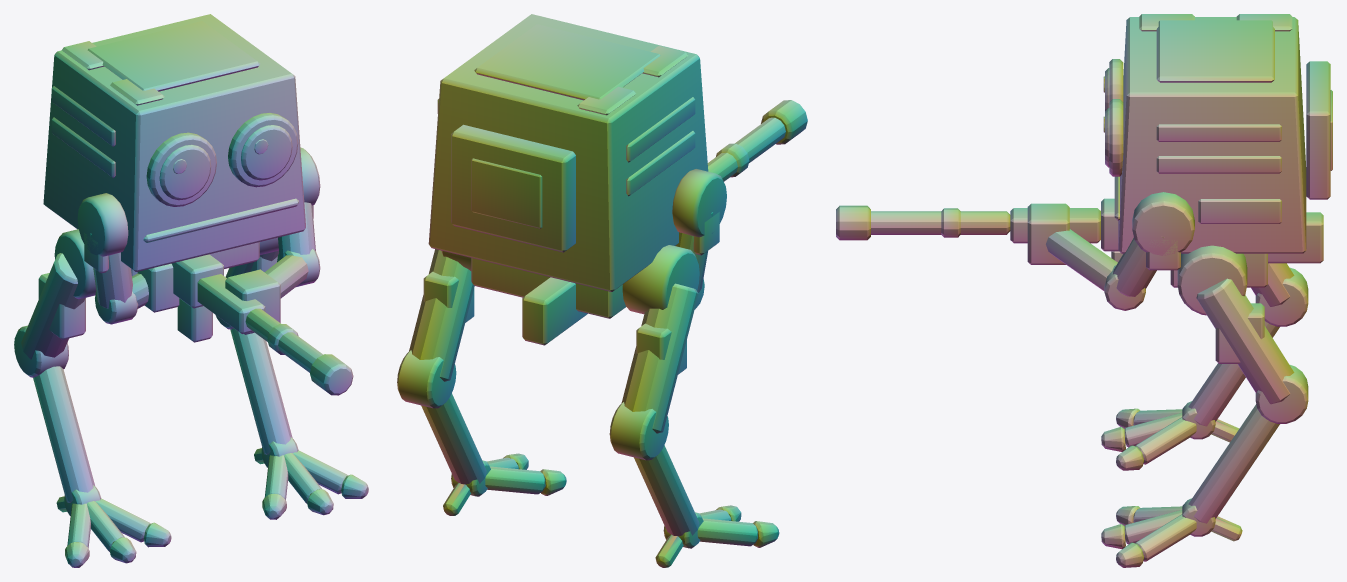
File: mech_rig.glb
The picture shows the model from 3 angles, left to right: view 1: azimuth 30°, elevation 25°; view 2: azimuth 150°, elevation 25°; view 3: azimuth 270°, elevation 25°; orthographic projection. The views are drawn at different scales.
Parts seen in each view (by area): view 1: body, barrel, thigh_R, shin_R, foot_L, foot_R, shin_L, arm_R, arm_L, thigh_L; view 2: body, thigh_R, thigh_L, barrel, shin_L, shin_R, foot_R, foot_L, arm_R; view 3: body, barrel, thigh_L, foot_L, foot_R, shin_L, shin_R, thigh_R, arm_L.
Boxes of the visible parts, x1,y1,x2,y2 form: body: [43, 14, 320, 299]; barrel: [95, 249, 353, 395]; thigh_R: [14, 253, 85, 377]; shin_R: [33, 366, 101, 515]; foot_L: [254, 448, 368, 519]; foot_R: [56, 496, 171, 567]; shin_L: [230, 328, 298, 467]; arm_R: [90, 233, 132, 308]; arm_L: [278, 202, 315, 259]; thigh_L: [215, 250, 278, 329]; body: [428, 14, 726, 318]; thigh_R: [609, 283, 698, 460]; thigh_L: [397, 249, 474, 408]; barrel: [522, 100, 807, 345]; shin_L: [421, 393, 490, 496]; shin_R: [634, 445, 703, 548]; foot_R: [655, 505, 779, 567]; foot_L: [443, 453, 566, 515]; arm_R: [675, 212, 713, 292]; body: [1103, 14, 1332, 315]; barrel: [836, 198, 1323, 310]; thigh_L: [1196, 278, 1308, 423]; foot_L: [1101, 506, 1242, 567]; foot_R: [1101, 408, 1239, 470]; shin_L: [1182, 404, 1279, 536]; shin_R: [1182, 321, 1279, 439]; thigh_R: [1251, 263, 1308, 326]; arm_L: [1113, 236, 1164, 296].
Size of the model in its own units: 5.01 by 7.14 by 7.13.
